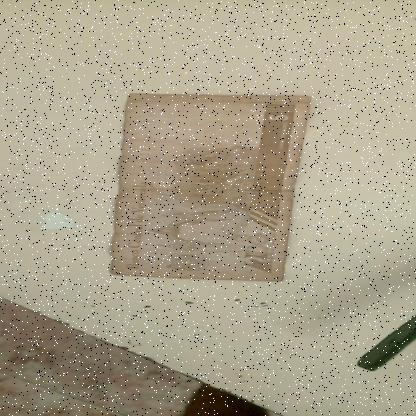five-back-vef: (109, 92, 310, 281)
